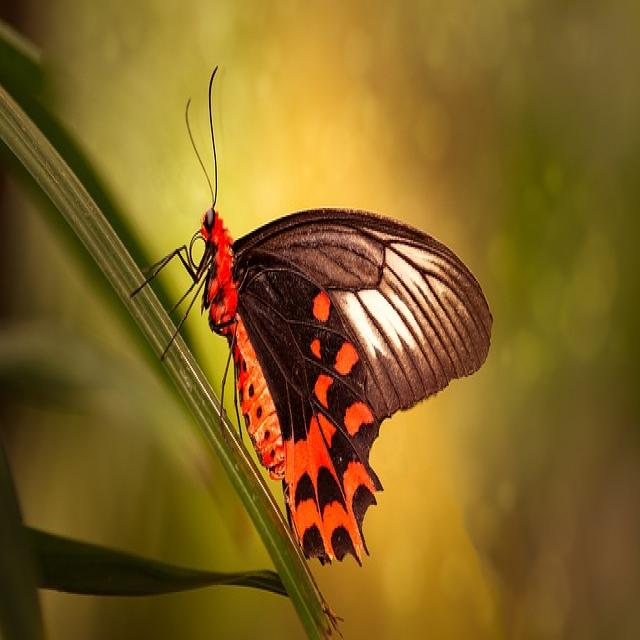butterfly: (143, 208, 494, 567)
